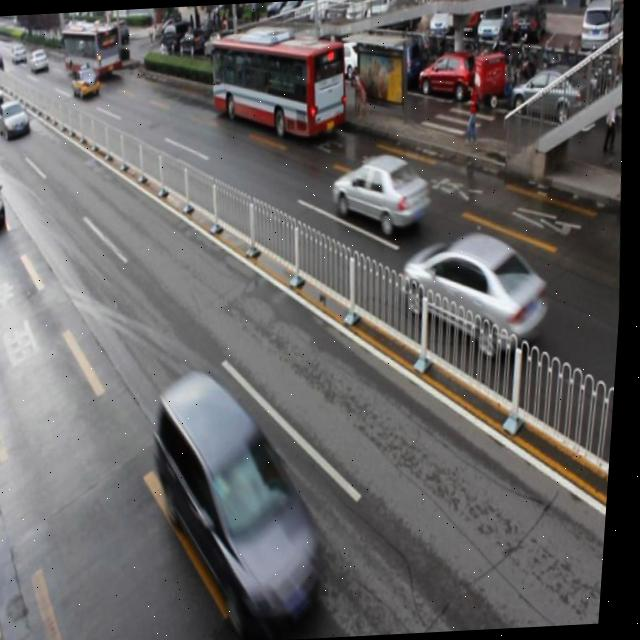car: (400, 228, 558, 360), (331, 150, 438, 236), (0, 169, 12, 238)
truck: (150, 366, 344, 627)
van: (208, 29, 351, 140)
